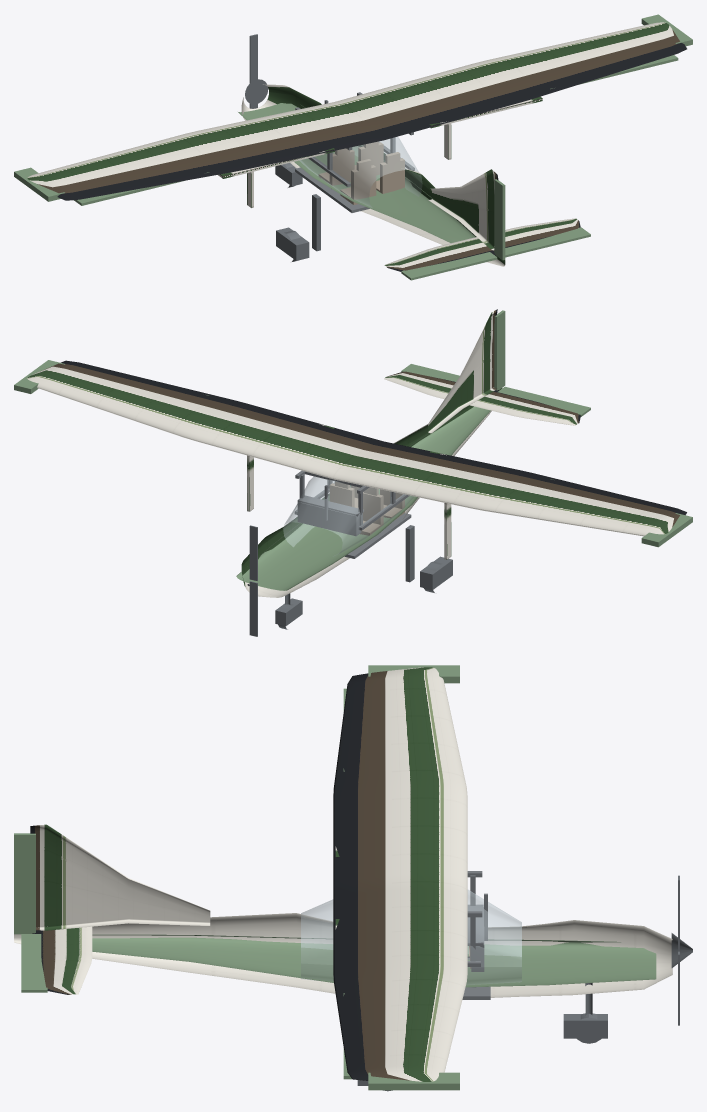
The model's file is sightseeing-aircraft.glb.
The picture shows the model from 3 angles, top to bottom: view 1: azimuth 30°, elevation 25°; view 2: azimuth 150°, elevation 25°; view 3: azimuth 270°, elevation 25°; orthographic projection. The views are drawn at different scales.
Visible parts, largest first — view 1: SightseeingAircraft_Root, Elevator, Rudder, Propeller, AileronLeft, FlapLeft, NoseWheel, FlapRight; view 2: SightseeingAircraft_Root, Elevator, Propeller, Rudder, NoseWheel; view 3: SightseeingAircraft_Root, Rudder, NoseWheel, Elevator, Propeller.
Part boxes in pixels (left/top/right/bottom): SightseeingAircraft_Root: left=14, top=14, right=692, bottom=271; Elevator: left=401, top=227, right=590, bottom=280; Rudder: left=494, top=179, right=505, bottom=260; Propeller: left=245, top=34, right=268, bottom=108; AileronLeft: left=74, top=172, right=209, bottom=205; FlapLeft: left=218, top=148, right=334, bottom=178; NoseWheel: left=275, top=163, right=302, bottom=187; FlapRight: left=429, top=96, right=542, bottom=128; SightseeingAircraft_Root: left=14, top=309, right=692, bottom=597; Elevator: left=401, top=364, right=590, bottom=416; Propeller: left=247, top=525, right=257, bottom=636; Rudder: left=494, top=310, right=505, bottom=390; NoseWheel: left=275, top=593, right=302, bottom=629; SightseeingAircraft_Root: left=14, top=665, right=672, bottom=1091; Rudder: left=14, top=833, right=35, bottom=934; NoseWheel: left=563, top=983, right=607, bottom=1043; Elevator: left=21, top=934, right=47, bottom=992; Propeller: left=671, top=875, right=692, bottom=1025.
Size of the model in its own units: 12.1 by 3.01 by 8.3.
6 materials, 1 textured.
